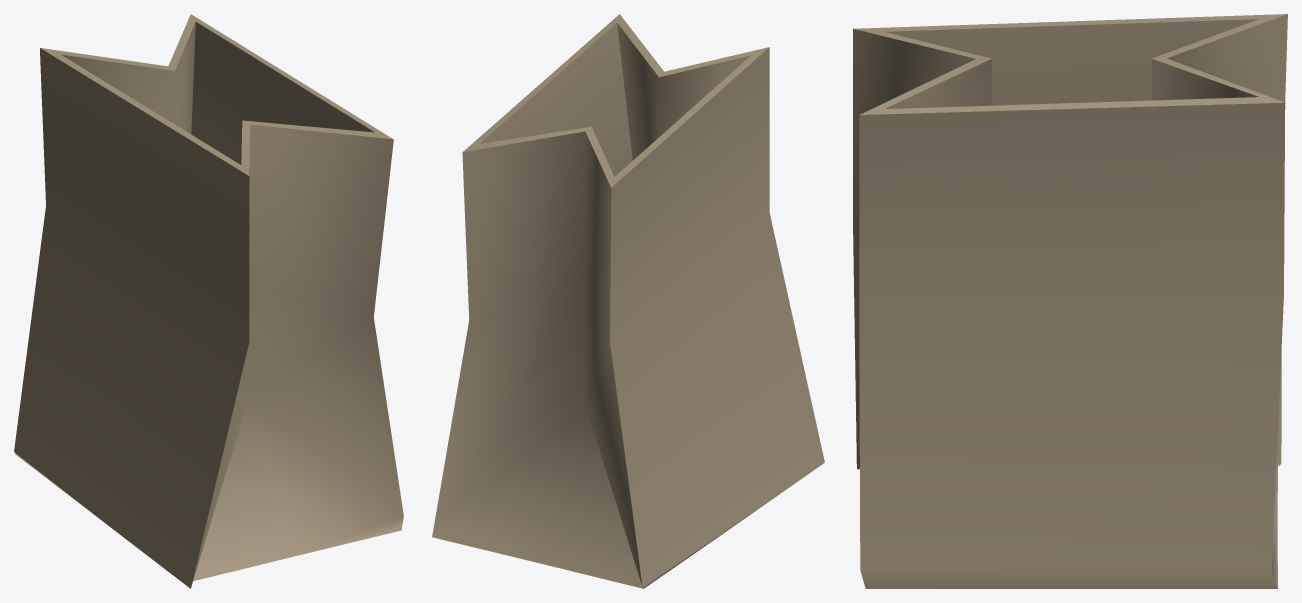
The model's file is paperBag.fbx.
The picture shows the model from 3 angles, left to right: view 1: azimuth 30°, elevation 25°; view 2: azimuth 150°, elevation 25°; view 3: azimuth 270°, elevation 25°; orthographic projection. The views are drawn at different scales.
Parts seen in each view (by area): view 1: paperBag; view 2: paperBag; view 3: paperBag.
Part boxes in pixels (left/top/right/bottom): paperBag: left=14, top=14, right=403, bottom=588; paperBag: left=432, top=14, right=824, bottom=588; paperBag: left=853, top=14, right=1287, bottom=588.
Bounding box in the file's own units: 0.2472 × 0.4411 × 0.367.
